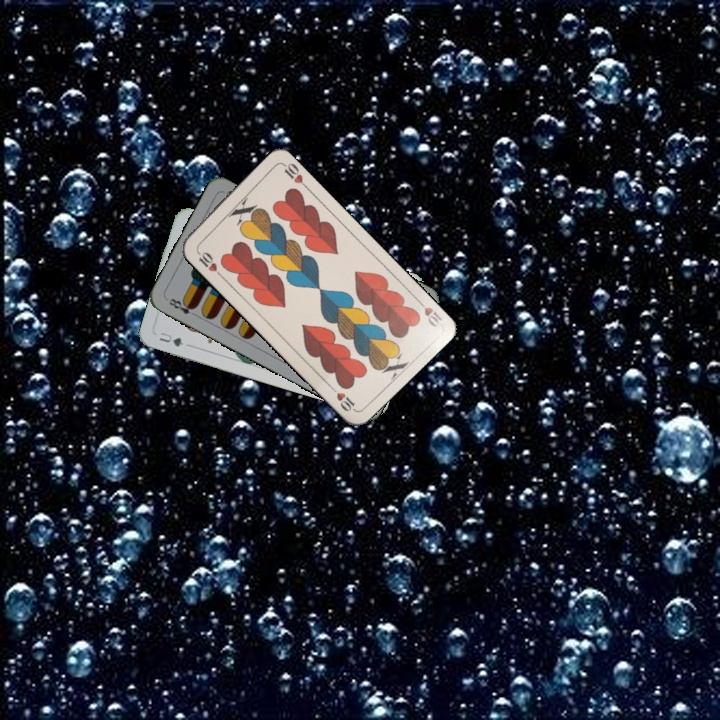E8: (163, 294, 200, 320)
GU: (155, 328, 186, 349)
H10: (412, 294, 445, 330), (192, 246, 224, 279)
